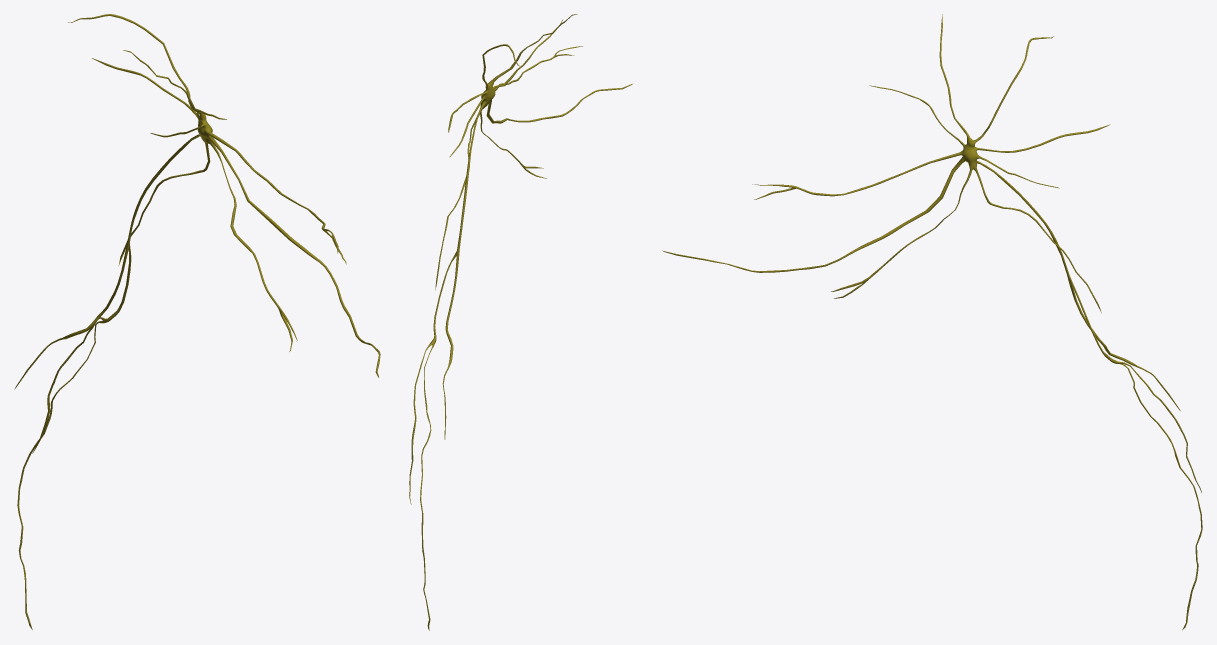
The model's file is L nodi lymphoidei subiliaci.fbx.
The picture shows the model from 3 angles, left to right: view 1: azimuth 30°, elevation 25°; view 2: azimuth 150°, elevation 25°; view 3: azimuth 270°, elevation 25°; orthographic projection. The views are drawn at different scales.
Parts seen in each view (by area): view 1: L nodi lymphoidei subiliaci, L nodi lymphoidei subiliaci low; view 2: L nodi lymphoidei subiliaci, L nodi lymphoidei subiliaci low; view 3: L nodi lymphoidei subiliaci, L nodi lymphoidei subiliaci low.
Boxes of the visible parts, left/top/right/bottom form: L nodi lymphoidei subiliaci: left=14, top=14, right=380, bottom=625; L nodi lymphoidei subiliaci low: left=18, top=15, right=379, bottom=629; L nodi lymphoidei subiliaci: left=409, top=14, right=632, bottom=630; L nodi lymphoidei subiliaci low: left=409, top=17, right=622, bottom=619; L nodi lymphoidei subiliaci: left=662, top=14, right=1202, bottom=629; L nodi lymphoidei subiliaci low: left=690, top=21, right=1201, bottom=629.
Bounding box in the file's own units: 16.83 × 75.13 × 61.74.
